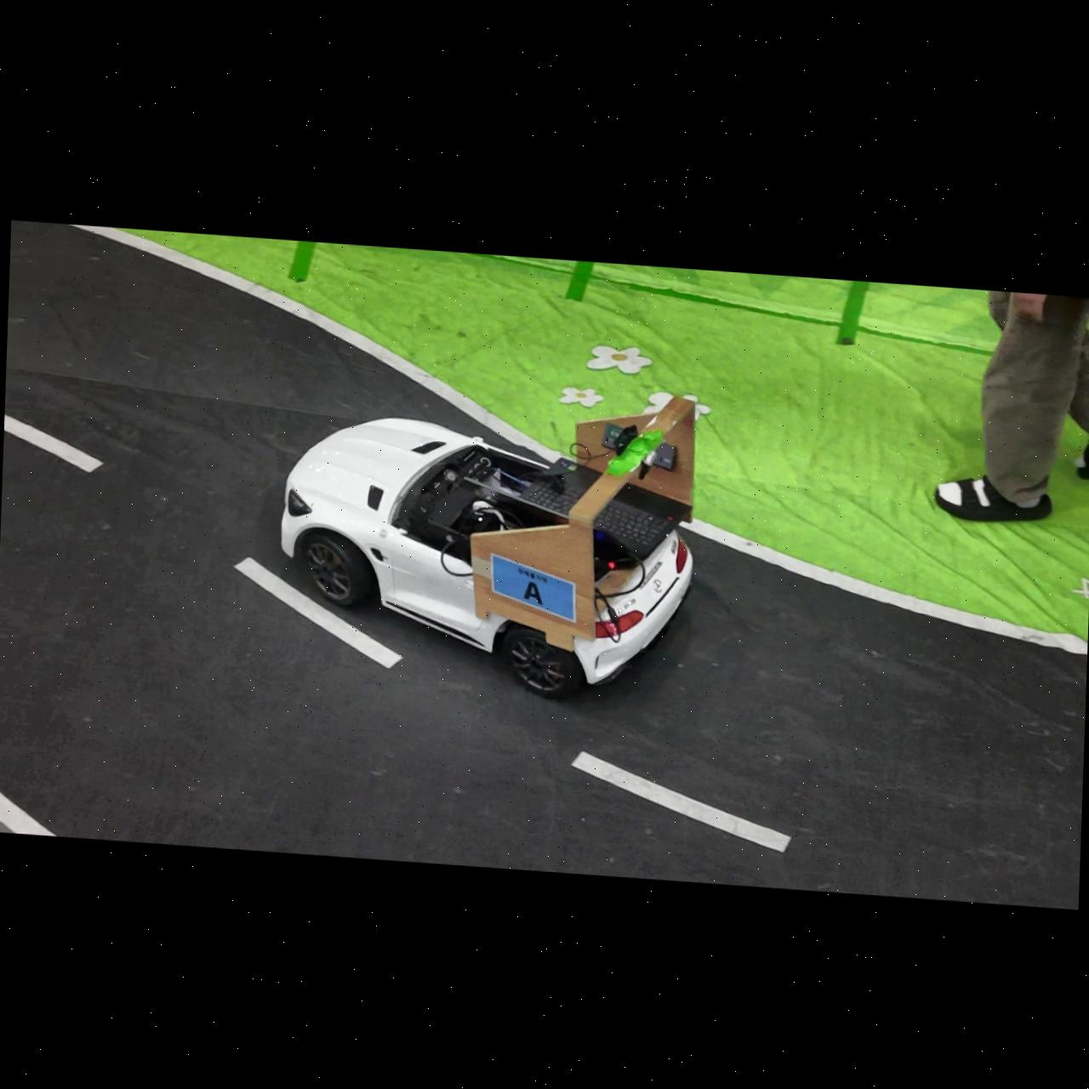broken_line: (572, 751, 790, 852), (234, 557, 401, 667), (4, 415, 102, 471)
